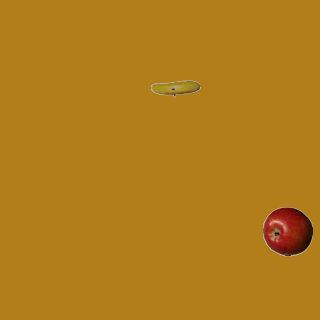Apple Braeburn: (262, 206, 312, 256)
Banana: (150, 63, 200, 113)
